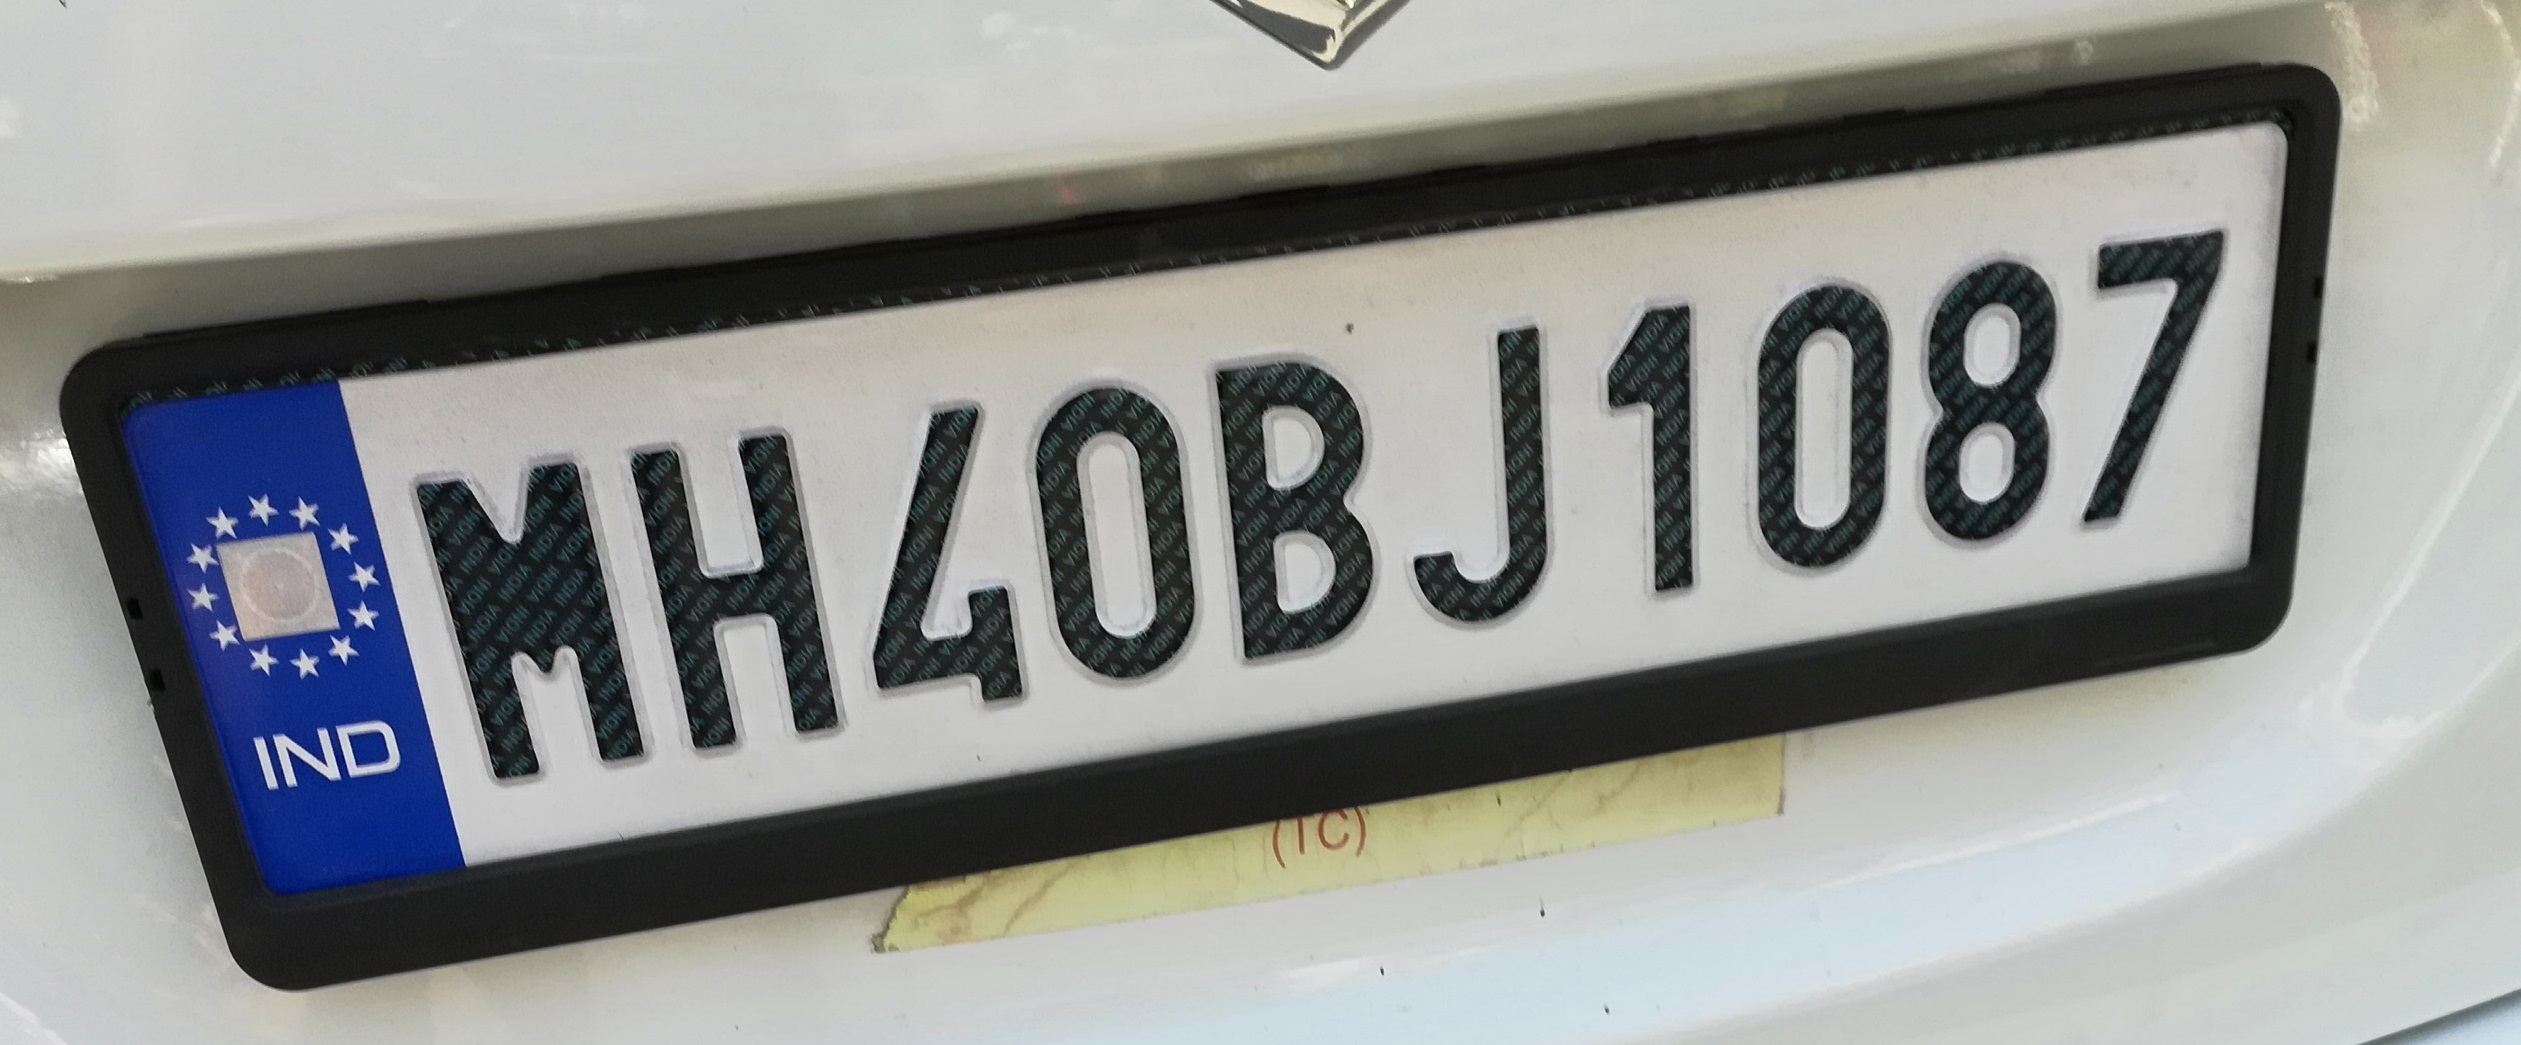numberplate: (85, 86, 2317, 933)
